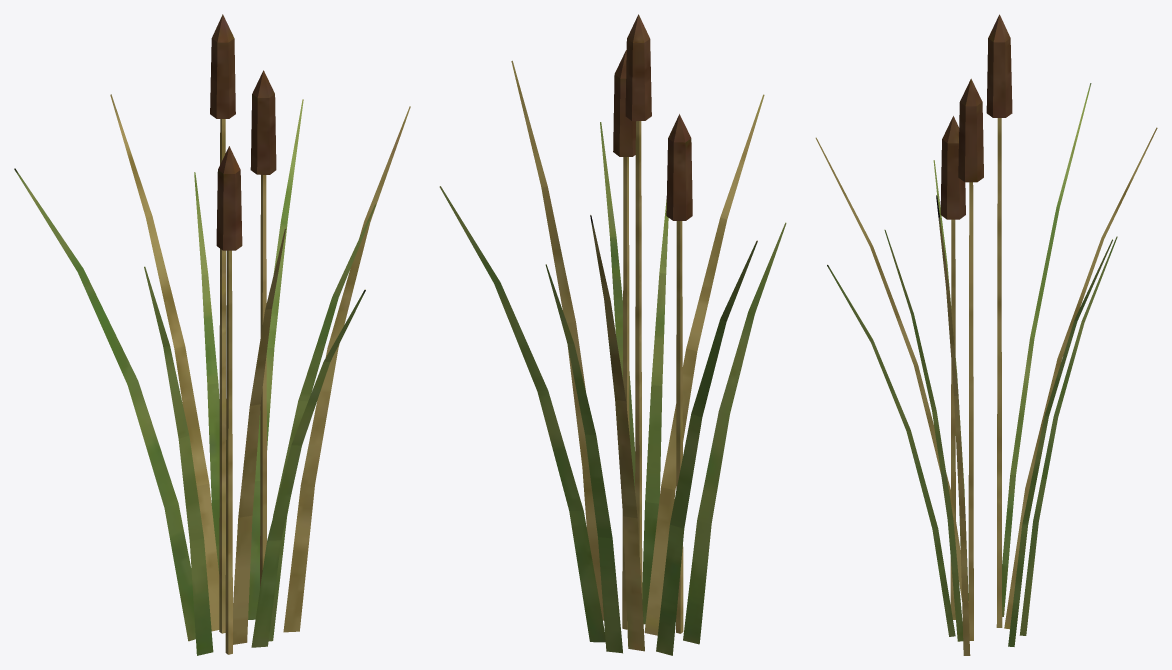
Rendered from coast_reed.glb.
3 views of the same model, side by side, from view 1: azimuth 30°, elevation 25°; view 2: azimuth 150°, elevation 25°; view 3: azimuth 270°, elevation 25° (orthographic). The views are drawn at different scales.
Parts seen in each view (by area): view 1: Static_Mesh; view 2: Static_Mesh; view 3: Static_Mesh.
Boxes of the visible parts, bbox=[...] form: Static_Mesh: bbox=[14, 14, 410, 655]; Static_Mesh: bbox=[439, 14, 786, 655]; Static_Mesh: bbox=[815, 14, 1157, 655].
Bounding box in the file's own units: 0.9658 × 1.79 × 0.9053.
Materials: 1 (1 with a texture image).
